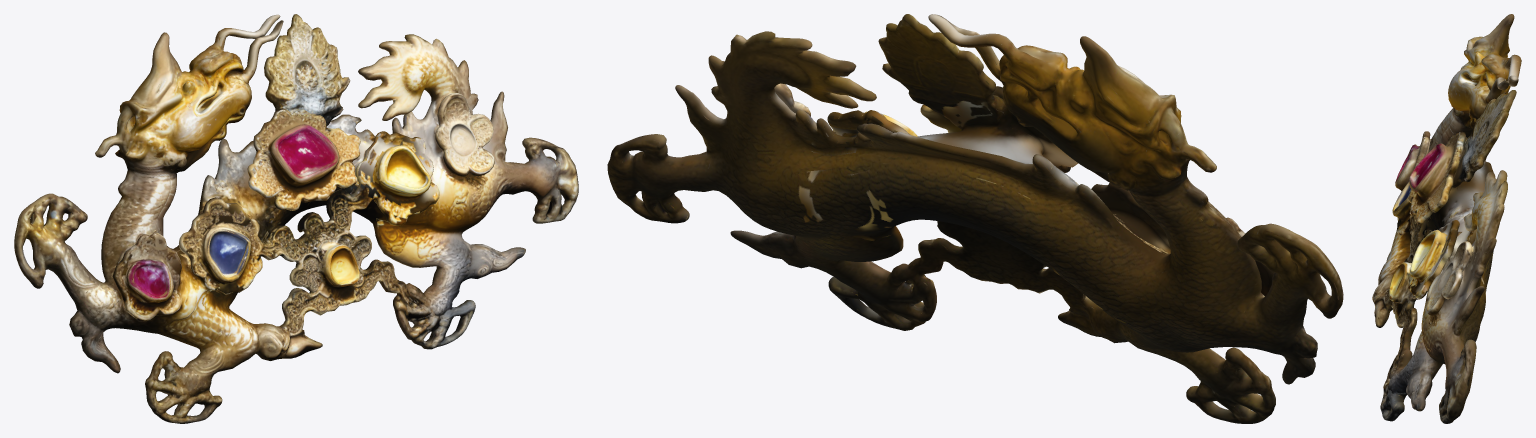
Rendered from 10-ming-gold-hairpin.glb.
The picture shows the model from 3 angles, left to right: view 1: azimuth 30°, elevation 25°; view 2: azimuth 150°, elevation 25°; view 3: azimuth 270°, elevation 25°; orthographic projection. The views are drawn at different scales.
Parts seen in each view (by area): view 1: Retopo_node_0; view 2: Retopo_node_0; view 3: Retopo_node_0.
Part boxes in pixels (x1,y1,x2,y2): Retopo_node_0: (14,14,578,423); Retopo_node_0: (607,14,1343,423); Retopo_node_0: (1372,14,1521,423).
Bounding box in the file's own units: 118 × 66.62 × 28.56.
1 material, 1 textured.
